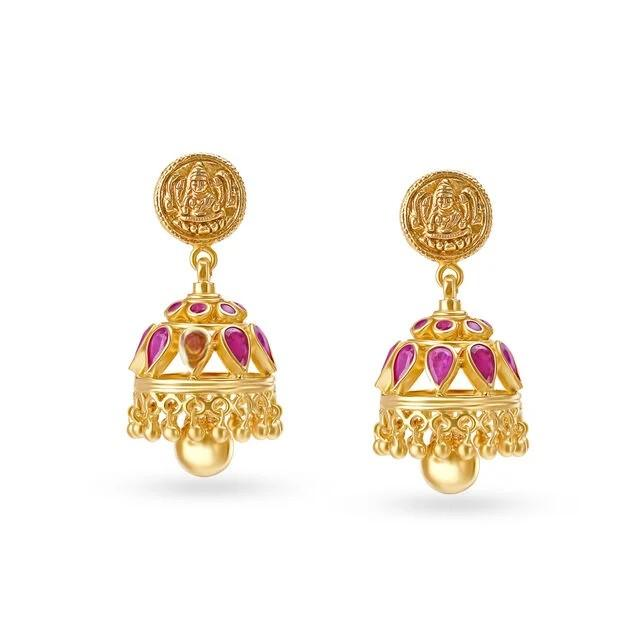missing gem: (181, 330, 207, 371)
